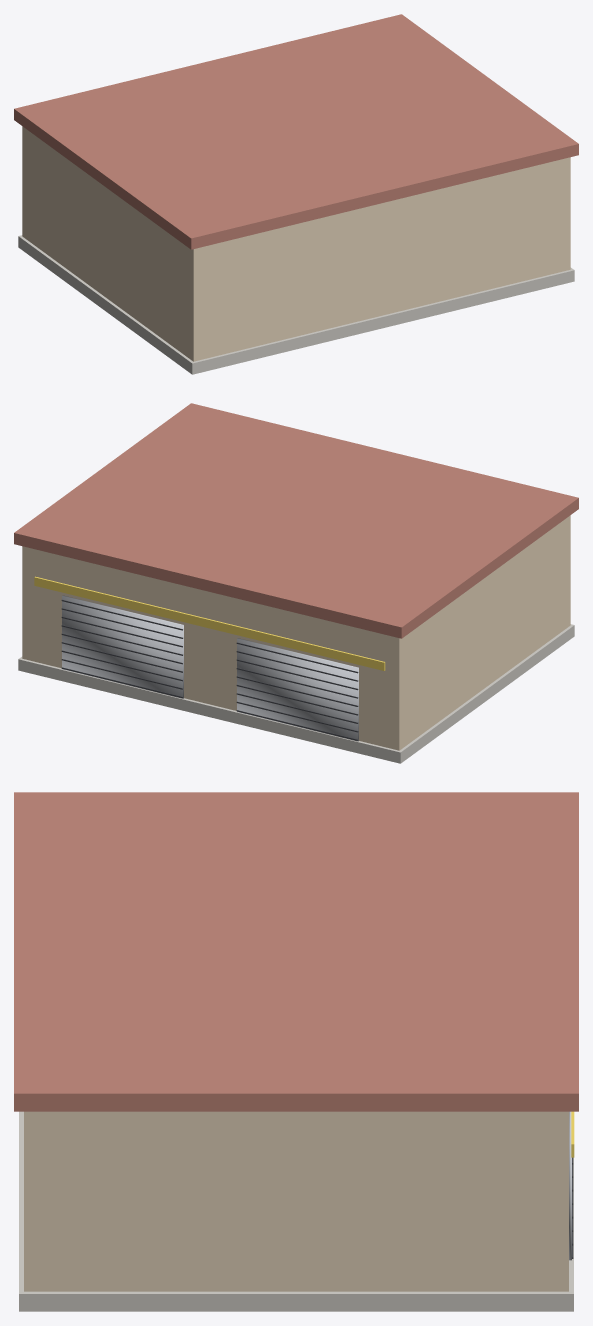
The model's file is B_garage.fbx.
The picture shows the model from 3 angles, top to bottom: view 1: azimuth 30°, elevation 25°; view 2: azimuth 150°, elevation 25°; view 3: azimuth 270°, elevation 25°; orthographic projection. The views are drawn at different scales.
Parts seen in each view (by area): view 1: Roof.002, Wall.006, Concrete.008; view 2: Roof.002, Wall.006, Metal.006, Concrete.008, Dark.013, Yellow.004; view 3: Roof.002, Wall.006, Concrete.008.
Part boxes in pixels (x1,y1,x2,y2): Roof.002: [14, 14, 578, 249]; Wall.006: [22, 126, 570, 361]; Concrete.008: [18, 235, 574, 374]; Roof.002: [14, 403, 578, 638]; Wall.006: [22, 515, 570, 750]; Metal.006: [62, 595, 358, 741]; Concrete.008: [18, 624, 574, 763]; Dark.013: [61, 599, 358, 740]; Yellow.004: [34, 576, 385, 670]; Roof.002: [14, 792, 578, 1111]; Wall.006: [24, 1111, 568, 1291]; Concrete.008: [19, 1111, 573, 1311].
Size of the model in its own units: 2880 by 980 by 2280.
